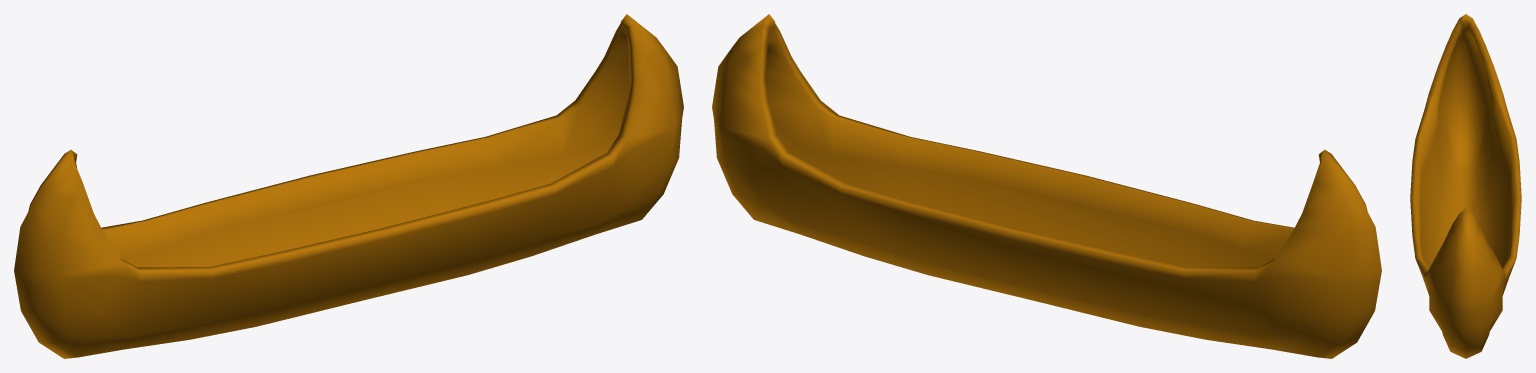
File: Canoe.glb
3 renders of one model, left to right at view 1: azimuth 30°, elevation 25°; view 2: azimuth 150°, elevation 25°; view 3: azimuth 270°, elevation 25°, orthographic. The views are drawn at different scales.
Visible parts, largest first — view 1: IndianBoat; view 2: IndianBoat; view 3: IndianBoat.
Part boxes in pixels (x1,y1,x2,y2): IndianBoat: (14,14,683,358); IndianBoat: (712,14,1381,358); IndianBoat: (1410,14,1521,358).
Bounding box in the file's own units: 1.99 × 0.6197 × 0.4018.
